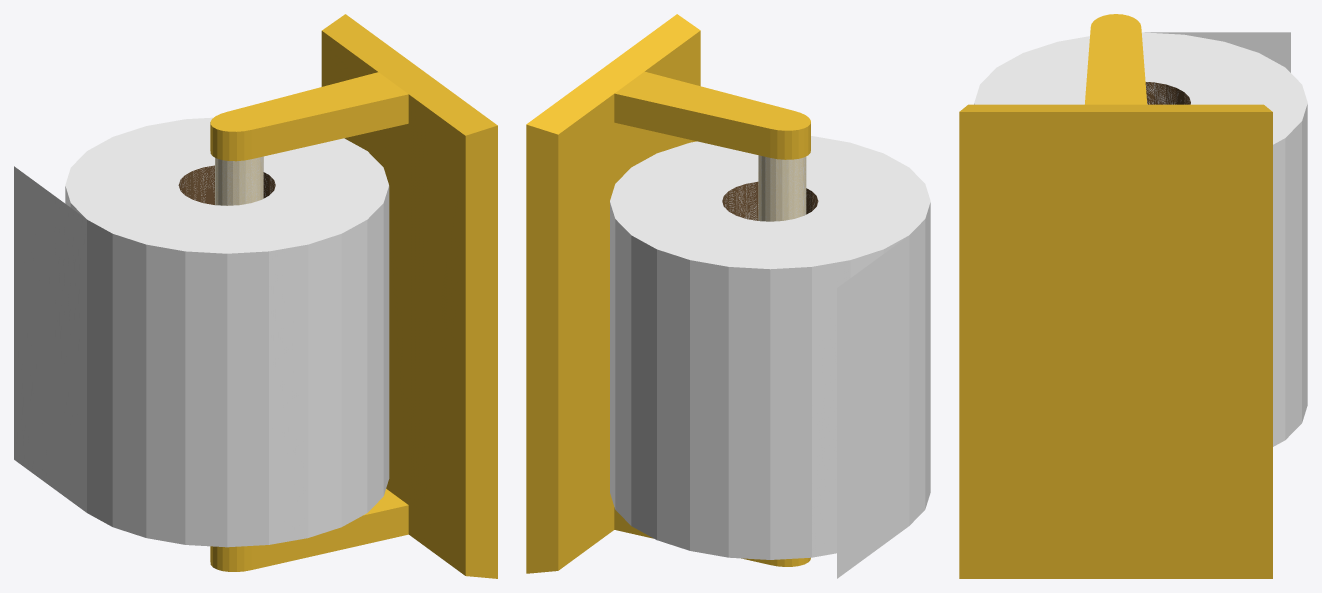
3 renders of one model, left to right at view 1: azimuth 30°, elevation 25°; view 2: azimuth 150°, elevation 25°; view 3: azimuth 270°, elevation 25°, orthographic. The views are drawn at different scales.
Visible parts, largest first — view 1: tp holder with roll; view 2: tp holder with roll; view 3: tp holder with roll.
Part boxes in pixels (left/top/right/bottom): tp holder with roll: left=14, top=14, right=497, bottom=578; tp holder with roll: left=526, top=14, right=930, bottom=578; tp holder with roll: left=959, top=14, right=1307, bottom=578.
Bounding box in the file's own units: 5.75 × 7.73 × 5.23.
